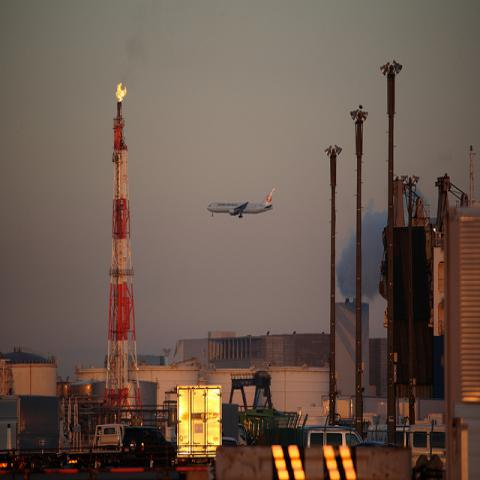car: (121, 428, 177, 468), (302, 428, 363, 448), (94, 424, 126, 452)
truck: (176, 384, 222, 467)
